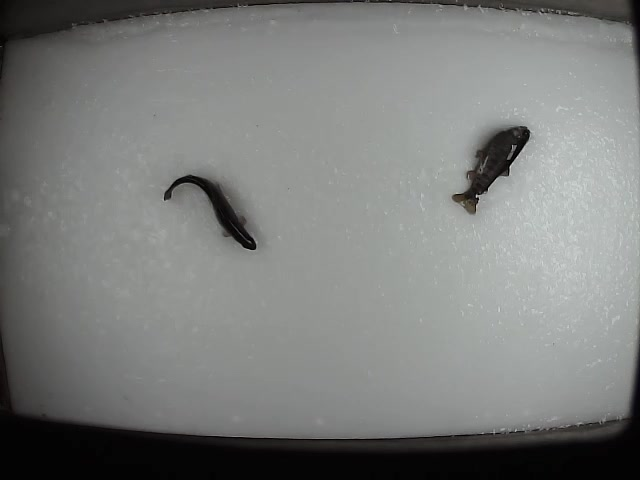Fish: (163, 174, 257, 250), (452, 126, 530, 214)
